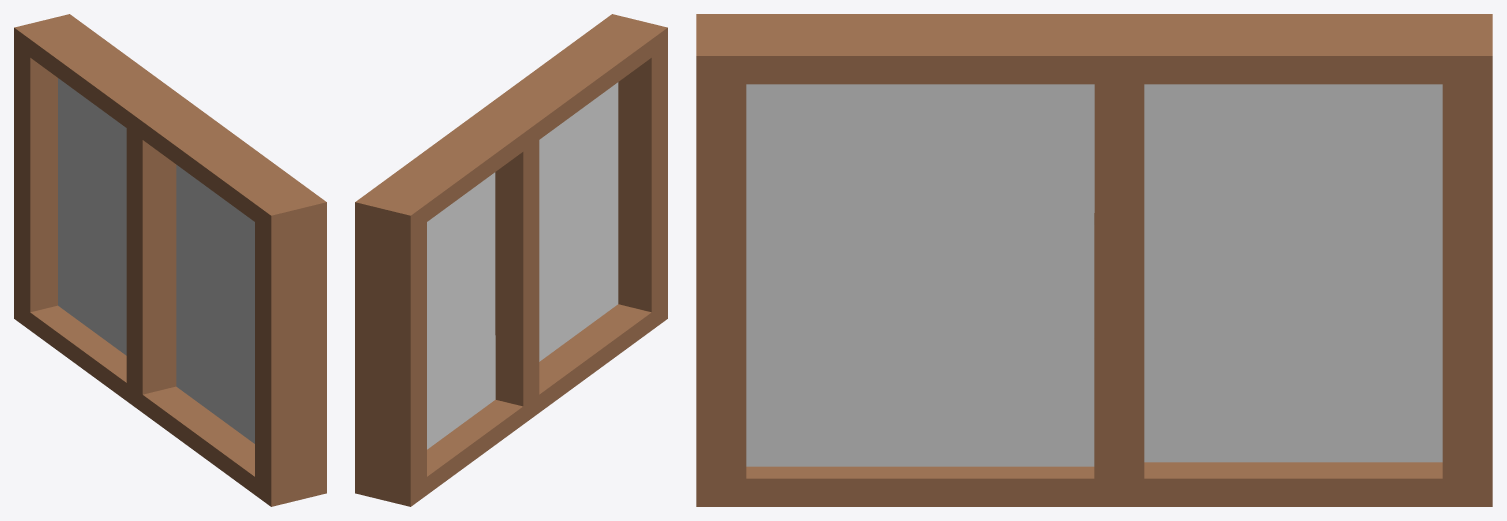
Rendered from 窓ガラス.fbx.
3 renders of one model, left to right at view 1: azimuth 30°, elevation 25°; view 2: azimuth 150°, elevation 25°; view 3: azimuth 270°, elevation 25°, orthographic. The views are drawn at different scales.
Parts seen in each view (by area): view 1: 立方体, 平面.001, 平面; view 2: 立方体, 平面.001, 平面; view 3: 立方体, 平面.001, 平面.
Part boxes in pixels (x1,y1,x2,y2): 立方体: (14,14,326,506); 平面.001: (176,165,254,443); 平面: (58,78,126,355); 立方体: (355,14,667,506); 平面.001: (539,82,618,361); 平面: (427,172,495,449); 立方体: (696,14,1492,506); 平面.001: (746,84,1094,466); 平面: (1144,84,1442,462).
Size of the model in its own units: 200 by 1000 by 1600.
